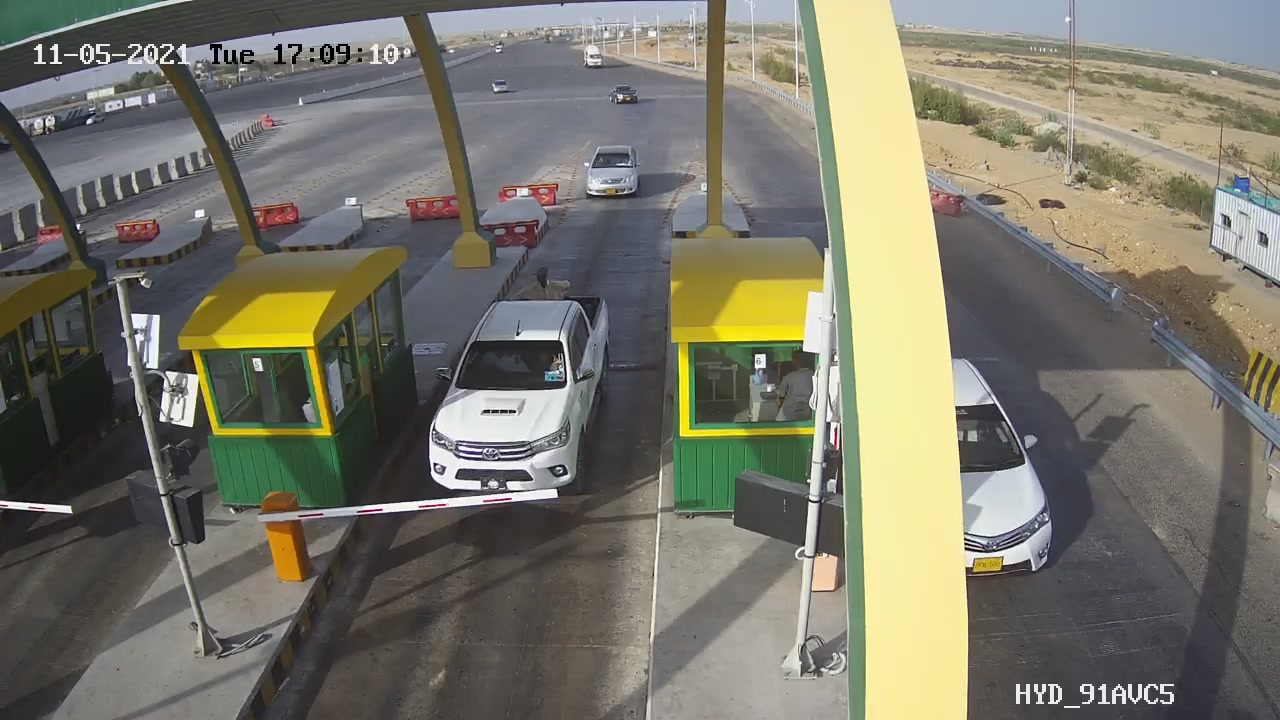F1: (409, 262, 630, 522)
